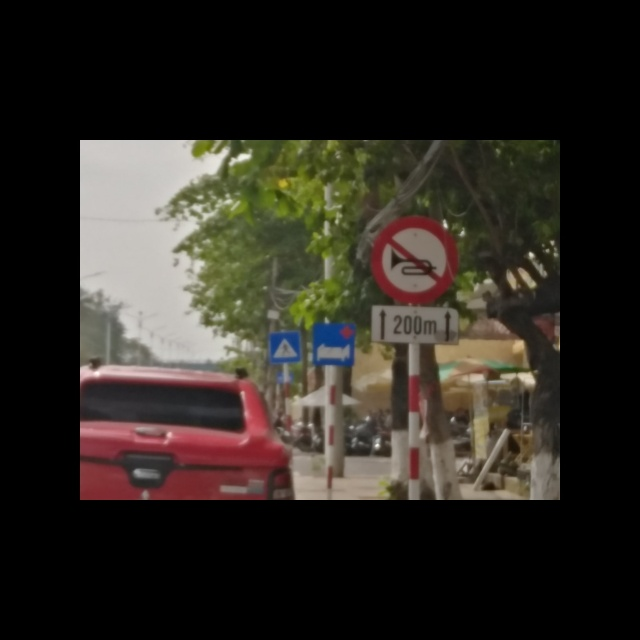Bệnh viện: (311, 325, 357, 366)
Cấm bấm còi: (372, 217, 458, 305)
Đường dành cho người đi bộ: (270, 331, 301, 364)
